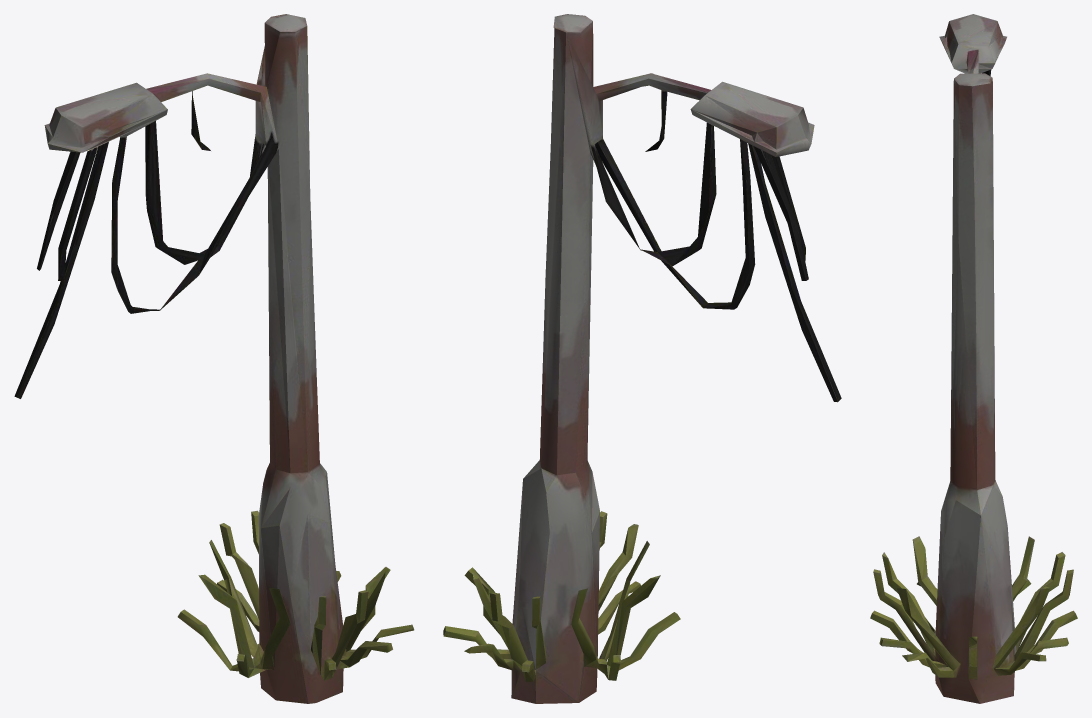
File: prop_pole.glb
3 renders of one model, left to right at view 1: azimuth 30°, elevation 25°; view 2: azimuth 150°, elevation 25°; view 3: azimuth 270°, elevation 25°, orthographic. The views are drawn at different scales.
Bounding box in the file's own units: 1.11 × 1.9 × 0.5901.
1 material, 1 textured.
